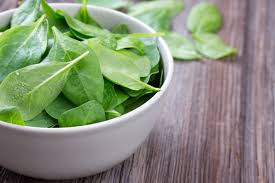spinach: (14, 20, 119, 107)
